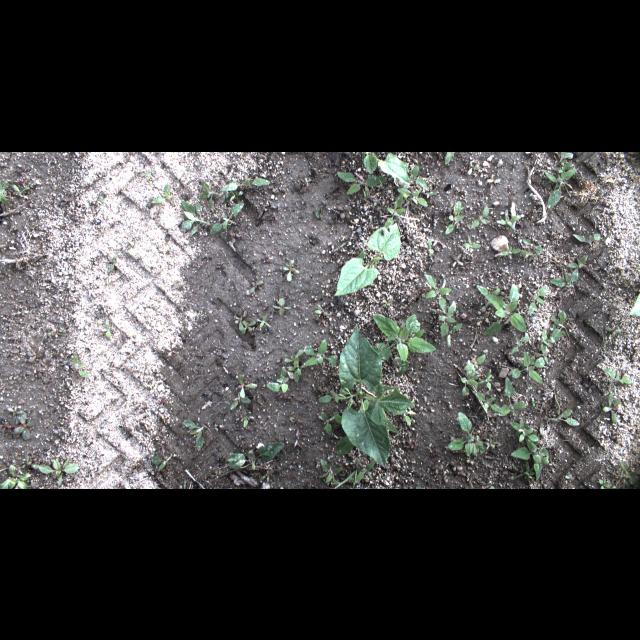crop: (338, 327, 417, 471), (331, 222, 402, 296), (364, 152, 414, 186)
weed: (453, 352, 542, 438), (368, 312, 439, 363), (182, 182, 250, 234), (474, 283, 530, 335), (420, 268, 462, 334), (444, 410, 492, 456), (504, 346, 554, 386), (227, 439, 287, 471), (538, 164, 578, 212), (31, 448, 81, 482), (507, 441, 553, 477), (228, 377, 260, 428), (533, 309, 577, 346), (208, 196, 244, 238), (299, 336, 339, 370), (335, 166, 383, 194), (3, 406, 39, 442), (220, 170, 276, 190), (186, 416, 214, 452), (546, 266, 582, 294), (232, 311, 272, 335), (410, 158, 434, 198), (497, 204, 529, 233), (393, 186, 432, 208), (1, 168, 23, 206), (286, 346, 308, 382), (602, 386, 624, 422), (570, 230, 604, 253), (2, 462, 34, 486), (448, 196, 468, 234), (147, 451, 183, 472), (266, 374, 302, 394), (319, 456, 343, 486), (546, 406, 582, 426), (600, 367, 634, 388), (278, 254, 302, 282), (68, 349, 90, 379), (517, 238, 547, 260), (530, 288, 550, 320), (471, 200, 493, 228), (384, 193, 406, 219), (316, 412, 338, 438), (150, 182, 174, 204), (272, 294, 294, 318), (496, 243, 522, 259), (244, 276, 266, 294), (462, 238, 483, 248)
